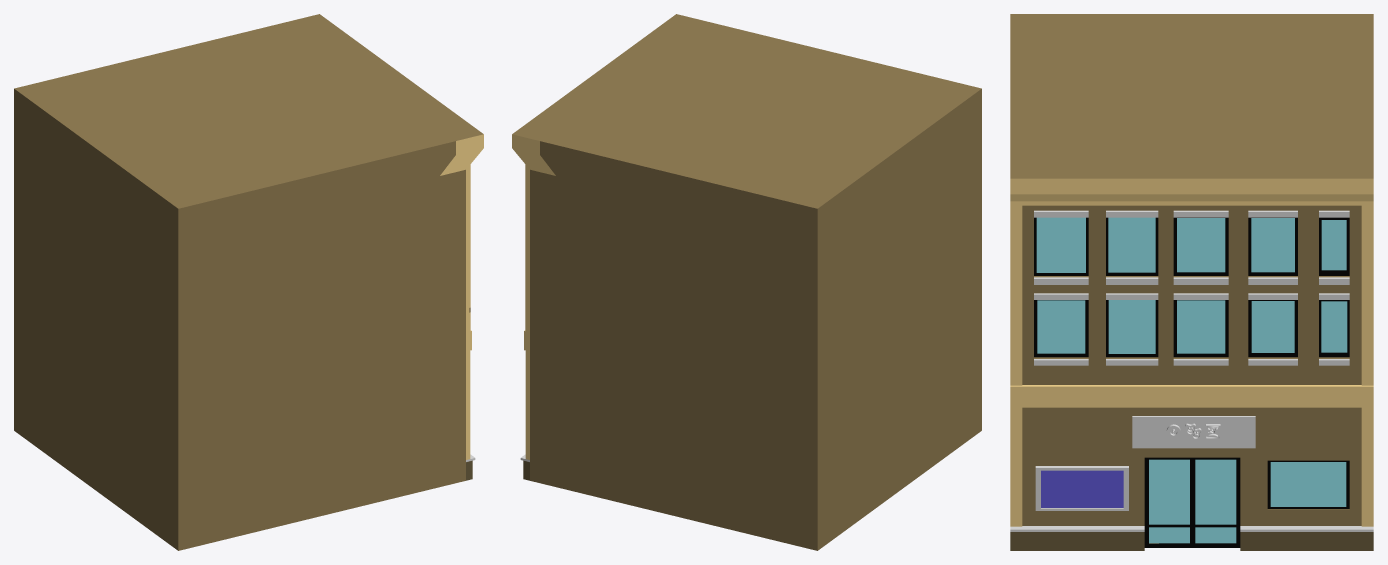
Rendered from Sandard building 3.fbx.
3 renders of one model, left to right at view 1: azimuth 30°, elevation 25°; view 2: azimuth 150°, elevation 25°; view 3: azimuth 270°, elevation 25°, orthographic. The views are drawn at different scales.
Parts seen in each view (by area): view 1: Cube.001; view 2: Cube.001; view 3: Cube.001, Text.
Part boxes in pixels (x1,y1,x2,y2): Cube.001: (14, 14, 483, 550); Cube.001: (512, 14, 981, 550); Cube.001: (1010, 14, 1373, 550); Text: (1166, 423, 1220, 439).
Size of the model in its own units: 2257 by 2414 by 2102.
